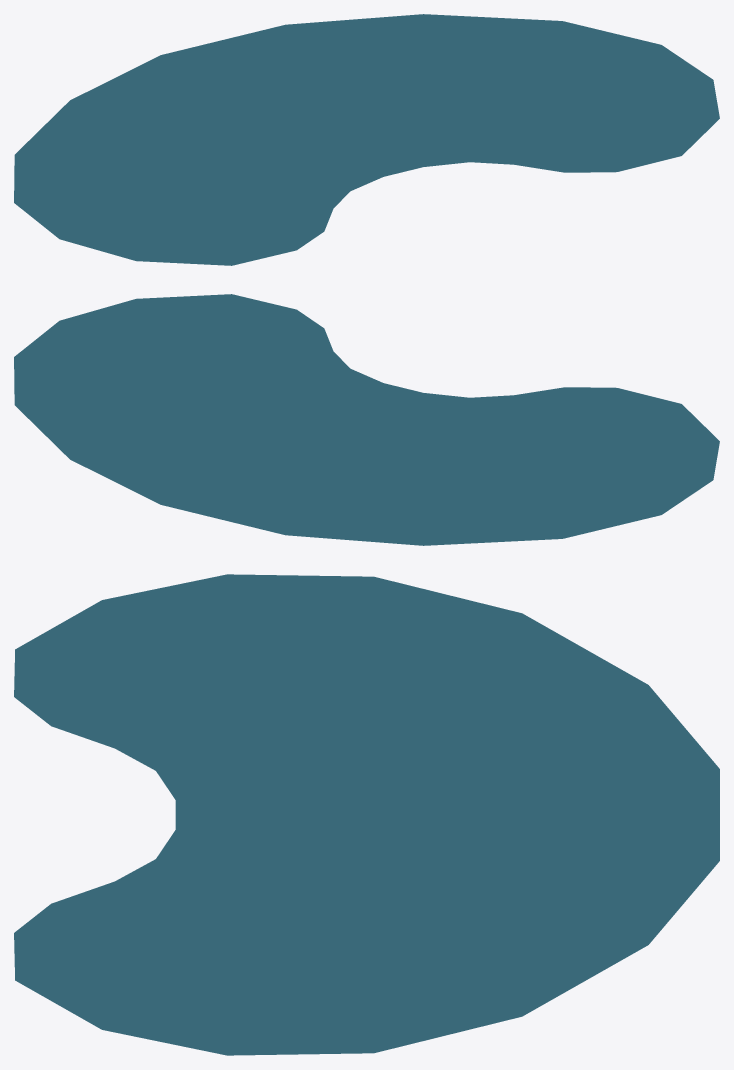
Rendered from itch_assetquest_pond_pond_2.glb.
3 renders of one model, top to bottom at view 1: azimuth 30°, elevation 25°; view 2: azimuth 150°, elevation 25°; view 3: azimuth 270°, elevation 25°, orthographic. The views are drawn at different scales.
Parts seen in each view (by area): view 1: Pond_2; view 2: Pond_2; view 3: Pond_2.
Boxes of the visible parts, left/top/right/bottom form: Pond_2: left=14, top=14, right=719, bottom=265; Pond_2: left=14, top=294, right=719, bottom=545; Pond_2: left=14, top=574, right=719, bottom=1055.
Size of the model in its own units: 1.52 by 2.09e-16 by 0.9425.
